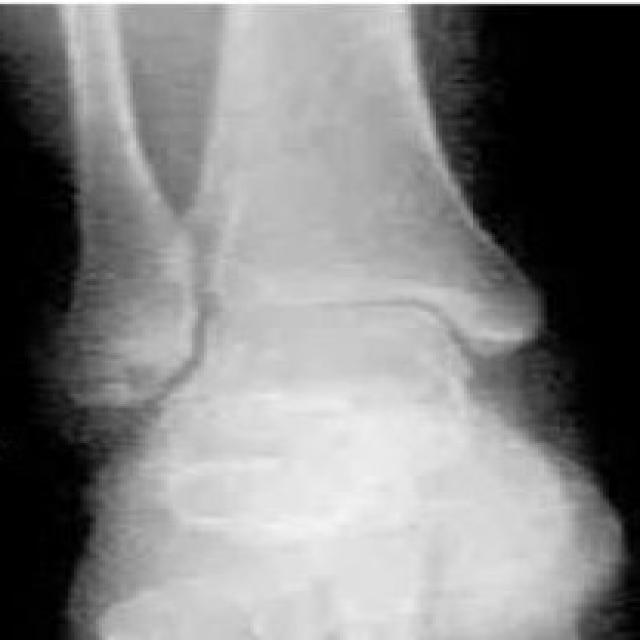Impacted: (108, 207, 580, 471)
